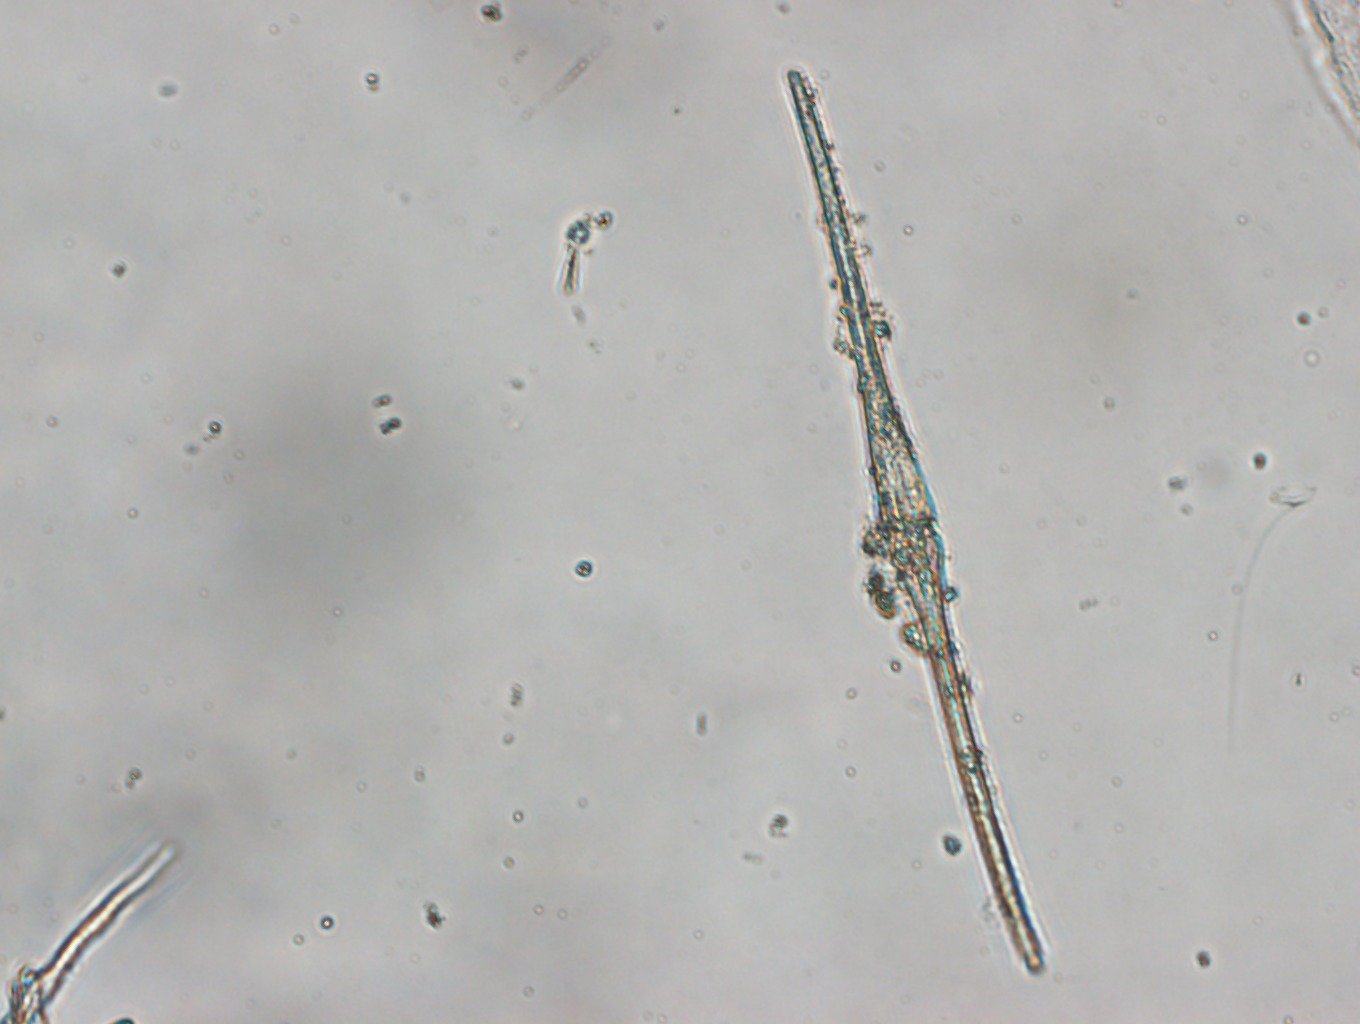ceratium fusus: (777, 61, 1060, 981)
